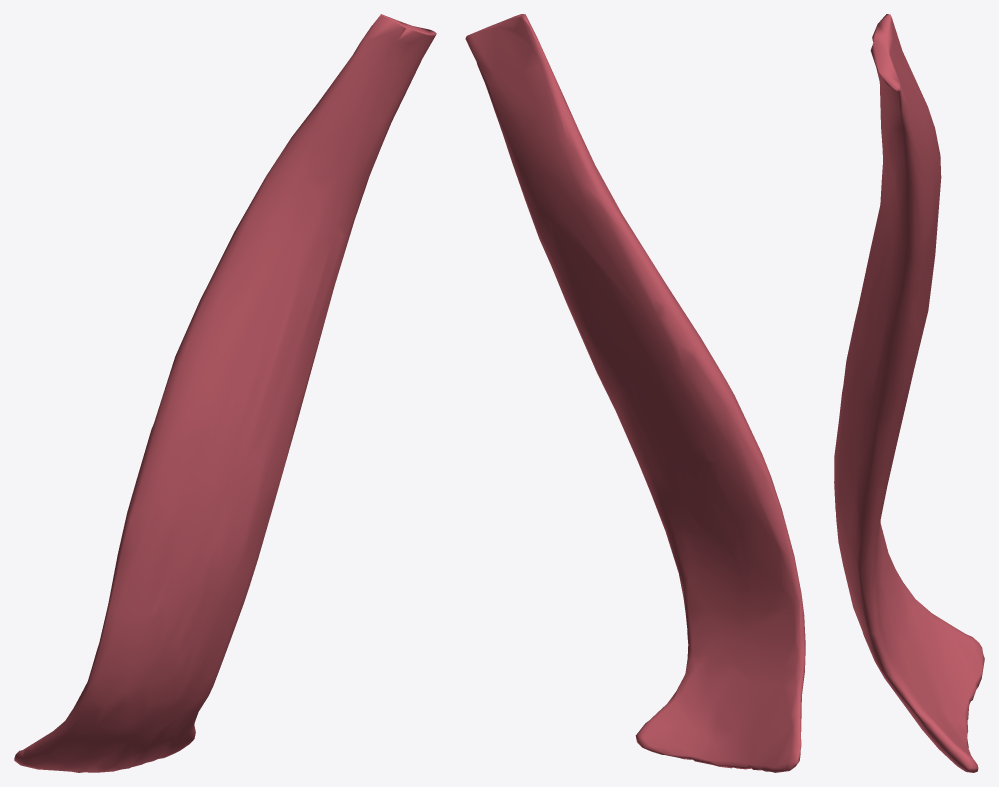
3 renders of one model, left to right at view 1: azimuth 30°, elevation 25°; view 2: azimuth 150°, elevation 25°; view 3: azimuth 270°, elevation 25°, orthographic. The views are drawn at different scales.
Visible parts, largest first — view 1: 右侧上直肌; view 2: 右侧上直肌; view 3: 右侧上直肌.
Boxes of the visible parts, x1,y1,x2,y2 form: 右侧上直肌: (14,14,436,772); 右侧上直肌: (465,14,805,772); 右侧上直肌: (834,14,984,772).
Size of the model in its own units: 0.0337 by 0.0598 by 0.00951.
